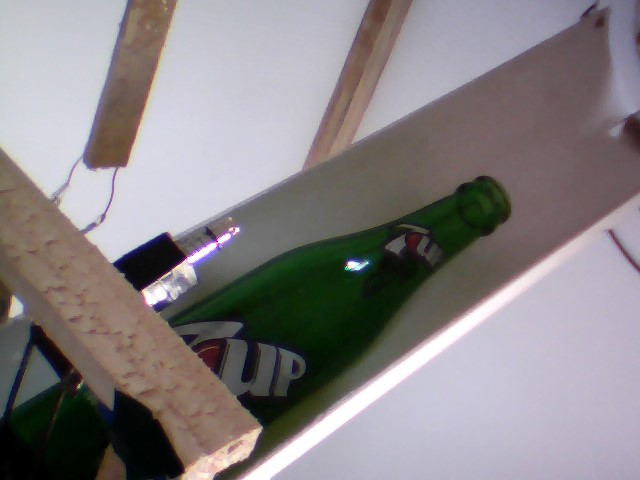vidrio: (181, 165, 526, 431)
